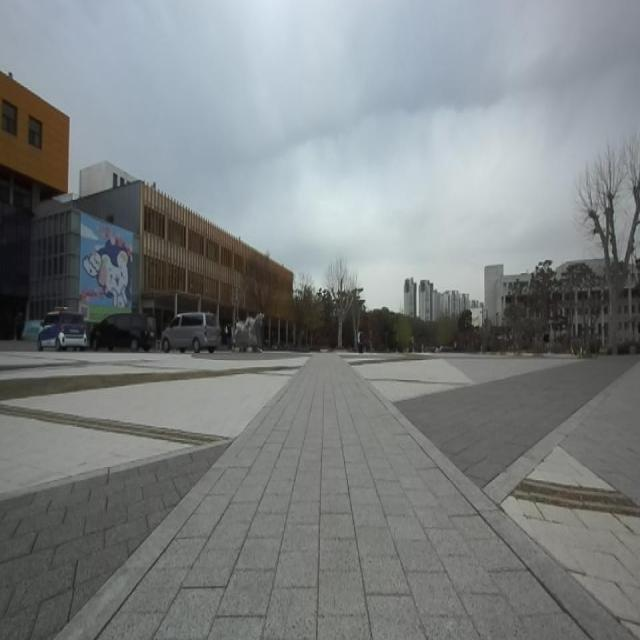sidewalk: (60, 356, 630, 639)
